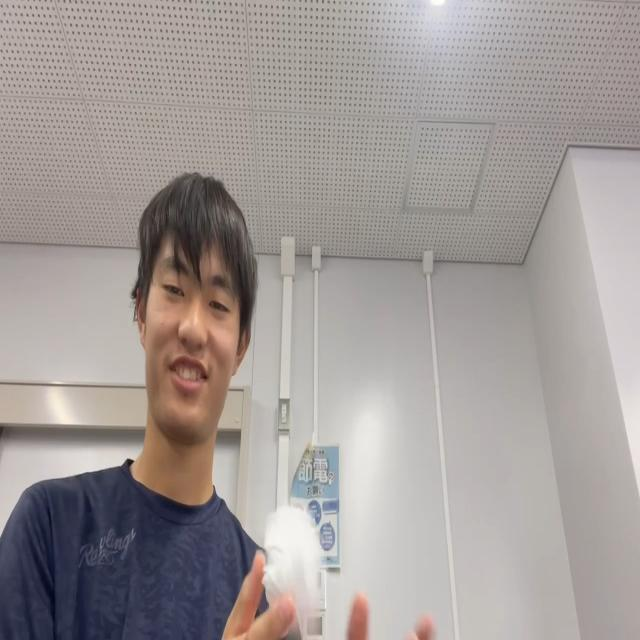paper: (260, 503, 324, 635)
